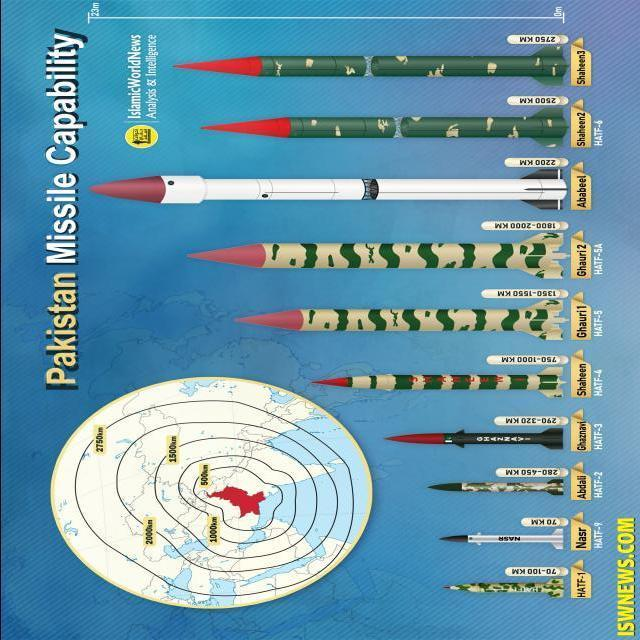Missile: (87, 165, 566, 215), (186, 227, 567, 279), (187, 106, 567, 151), (160, 51, 567, 80), (296, 363, 569, 398), (376, 424, 561, 451), (436, 527, 566, 553), (424, 478, 566, 495)
